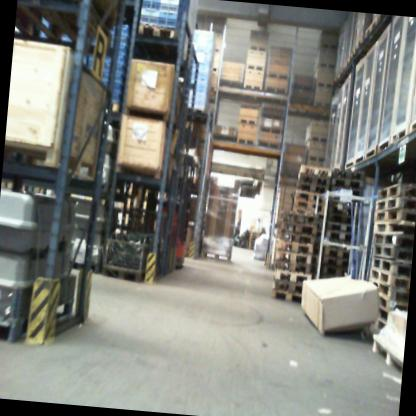forklift: (145, 134, 205, 272)
pallet: (14, 0, 110, 51), (0, 289, 74, 351), (136, 20, 189, 67), (102, 259, 149, 284), (368, 276, 408, 305), (375, 194, 416, 217), (374, 181, 416, 203), (372, 216, 414, 238), (370, 258, 411, 278), (371, 245, 413, 262), (373, 231, 413, 248), (373, 207, 412, 224), (369, 271, 410, 287), (380, 289, 408, 311), (274, 268, 312, 284), (277, 230, 315, 245), (276, 239, 314, 254), (296, 180, 330, 196), (275, 259, 311, 274), (276, 249, 311, 264), (280, 221, 317, 235), (298, 172, 331, 187), (292, 198, 325, 213), (284, 212, 319, 226), (290, 207, 324, 221), (330, 167, 364, 181), (329, 175, 363, 189), (299, 164, 332, 178), (101, 101, 124, 120), (271, 289, 302, 303), (202, 249, 232, 263), (329, 186, 361, 199), (272, 279, 303, 292), (294, 191, 326, 203), (326, 202, 355, 215), (364, 16, 380, 39), (326, 212, 354, 225), (322, 246, 350, 259), (320, 266, 347, 279), (325, 221, 353, 233), (324, 229, 352, 241), (321, 256, 349, 268), (306, 134, 329, 148), (264, 84, 289, 95), (378, 306, 390, 327), (266, 71, 291, 81), (259, 125, 283, 135), (258, 138, 281, 148), (261, 112, 286, 121), (353, 37, 365, 55), (243, 81, 263, 91), (236, 136, 257, 145), (308, 153, 326, 163), (245, 63, 265, 72), (248, 44, 268, 53), (315, 80, 334, 89), (186, 105, 205, 114), (314, 100, 332, 109), (346, 50, 355, 67), (239, 117, 258, 125), (318, 61, 336, 69), (320, 42, 337, 50), (310, 255, 319, 265), (311, 247, 320, 257), (310, 264, 318, 274), (315, 229, 322, 240), (314, 238, 321, 248), (317, 220, 323, 231)
small_load_carrier: (140, 2, 161, 22), (159, 3, 179, 23), (160, 0, 179, 10), (142, 0, 161, 4)
stillage: (102, 230, 151, 284)
